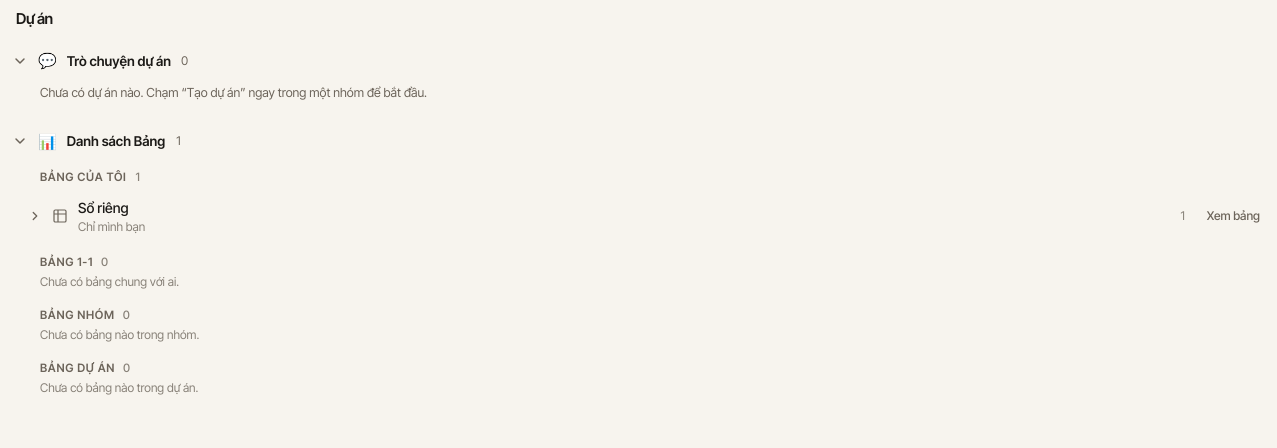
Scenario: the Dự án tab: my tables, then group projects › unfolds a table into its Hạng mục in place, without leaving the tab
The width and height of the screenshot is (1277, 448).
Expected: the text "Gọi nhà cung cấp" is not shown
Click the button "Sổ riêng Chỉ mình bạn 1": (103, 207) [20,189,1195,244]
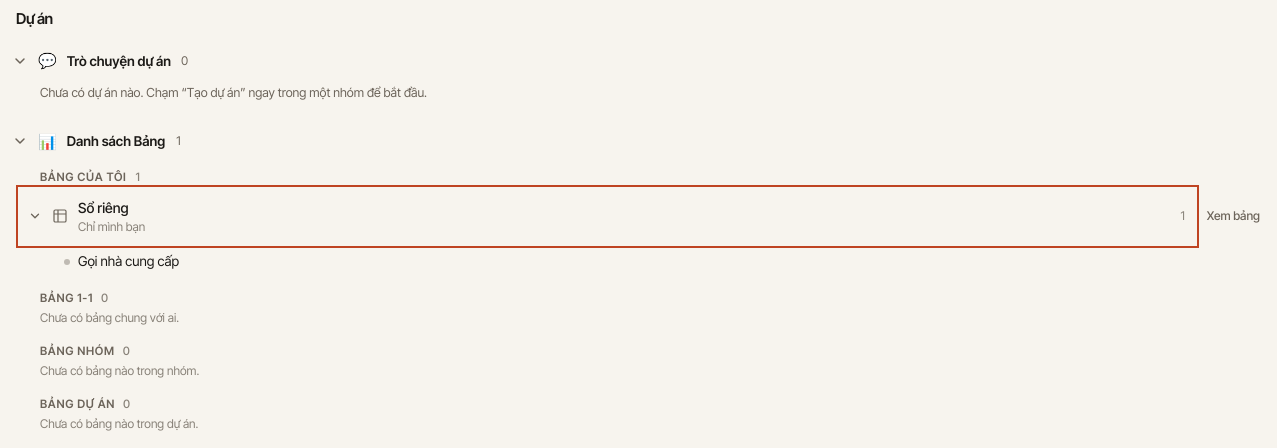
Result: the text "Gọi nhà cung cấp" is shown at [78,253,179,269]
